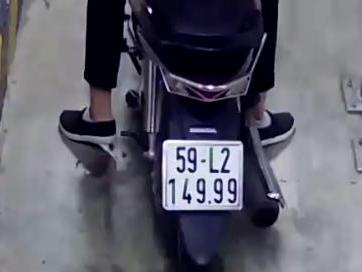num_plate: (161, 137, 244, 211)
